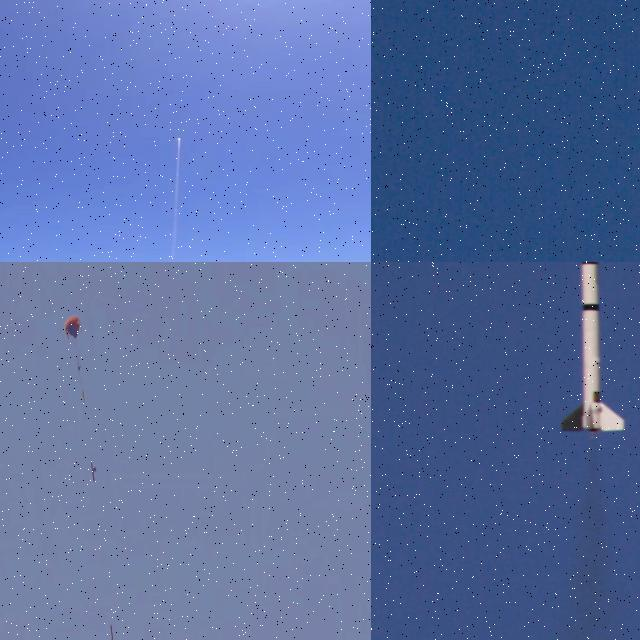Rocket: (560, 262, 627, 434), (110, 623, 115, 640), (178, 137, 182, 139)
